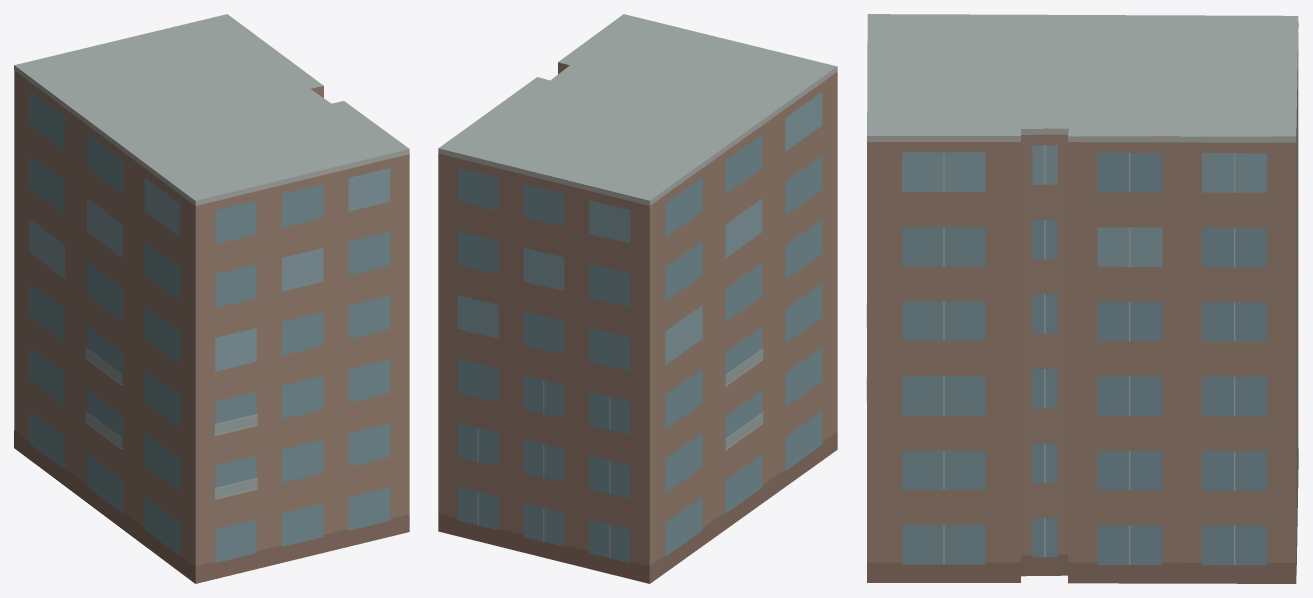
File: survey-upis-32735994.glb
3 renders of one model, left to right at view 1: azimuth 30°, elevation 25°; view 2: azimuth 150°, elevation 25°; view 3: azimuth 270°, elevation 25°, orthographic. The views are drawn at different scales.
Visible parts, largest first — view 1: survey-upis-32735994.tmp; view 2: survey-upis-32735994.tmp; view 3: survey-upis-32735994.tmp.
Part boxes in pixels (x1,y1,x2,y2): survey-upis-32735994.tmp: (14, 14, 409, 583); survey-upis-32735994.tmp: (438, 14, 837, 583); survey-upis-32735994.tmp: (866, 14, 1298, 583).
Bounding box in the file's own units: 10.79 × 18.3 × 16.03.
